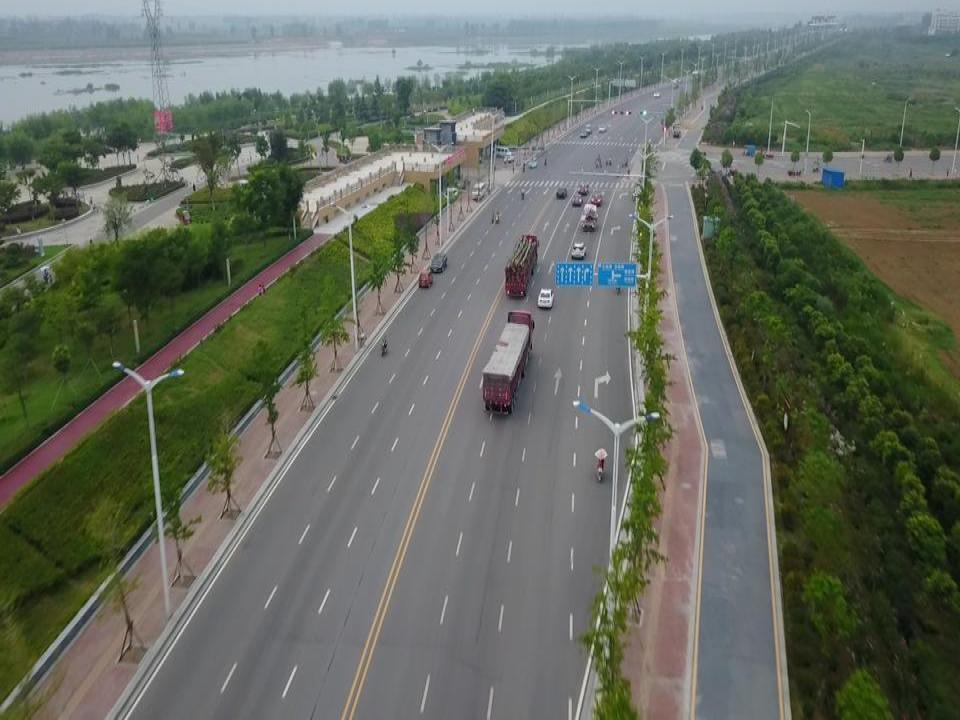car: (537, 288, 554, 308), (430, 253, 447, 271), (451, 181, 466, 192), (590, 194, 603, 206), (572, 194, 583, 206), (556, 186, 567, 198), (578, 184, 589, 195), (580, 130, 588, 138), (598, 124, 606, 131), (673, 131, 681, 137), (653, 92, 660, 97), (677, 77, 682, 83)
truck: (483, 311, 534, 413), (504, 233, 539, 296), (582, 204, 597, 231), (691, 70, 708, 82), (584, 124, 592, 133)
van: (418, 269, 433, 288), (571, 241, 586, 259), (471, 181, 485, 199), (444, 186, 458, 202), (496, 145, 511, 159), (505, 150, 515, 162), (671, 79, 678, 88)
